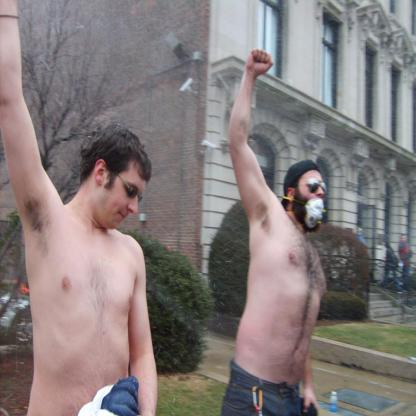face: (99, 177, 146, 228), (296, 170, 326, 232)
